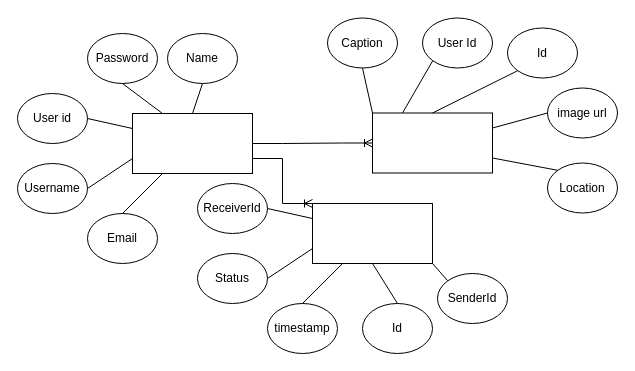
This 635x371 diagram has some shape labels left out. Each missing label, with the centre of its shape:
"Friendship" goes at point 372,233.
"Post" goes at point 432,142.
"User" goes at point 192,143.
